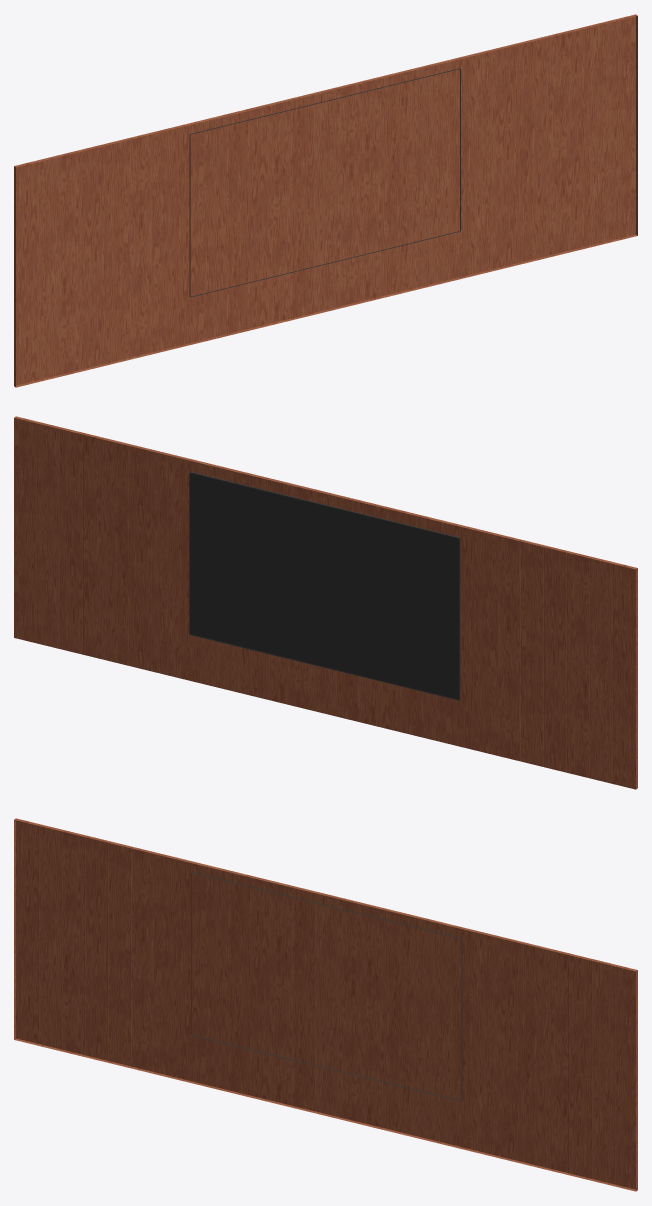
File: screen.fbx
3 renders of one model, top to bottom at view 1: azimuth 30°, elevation 25°; view 2: azimuth 150°, elevation 25°; view 3: azimuth 330°, elevation 25°, orthographic.
Parts seen in each view (by area): view 1: screen, screen_window; view 2: screen, screen_window; view 3: screen, screen_window.
Part boxes in pixels (x1,y1,x2,y2): screen: [14, 14, 637, 387]; screen_window: [189, 68, 460, 297]; screen: [14, 416, 637, 789]; screen_window: [189, 471, 460, 700]; screen: [14, 818, 637, 1191]; screen_window: [191, 872, 462, 1101].
Bounding box in the file's own units: 1665 × 563 × 11.84.
